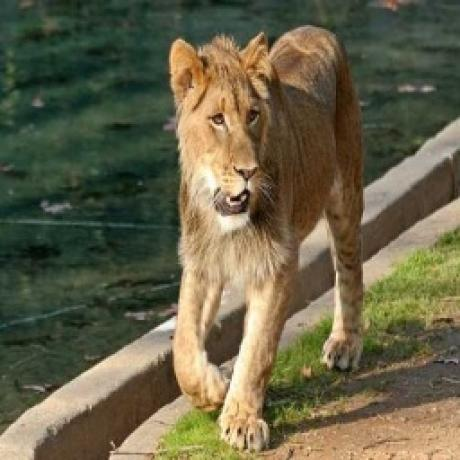Lion: (168, 24, 371, 454)
